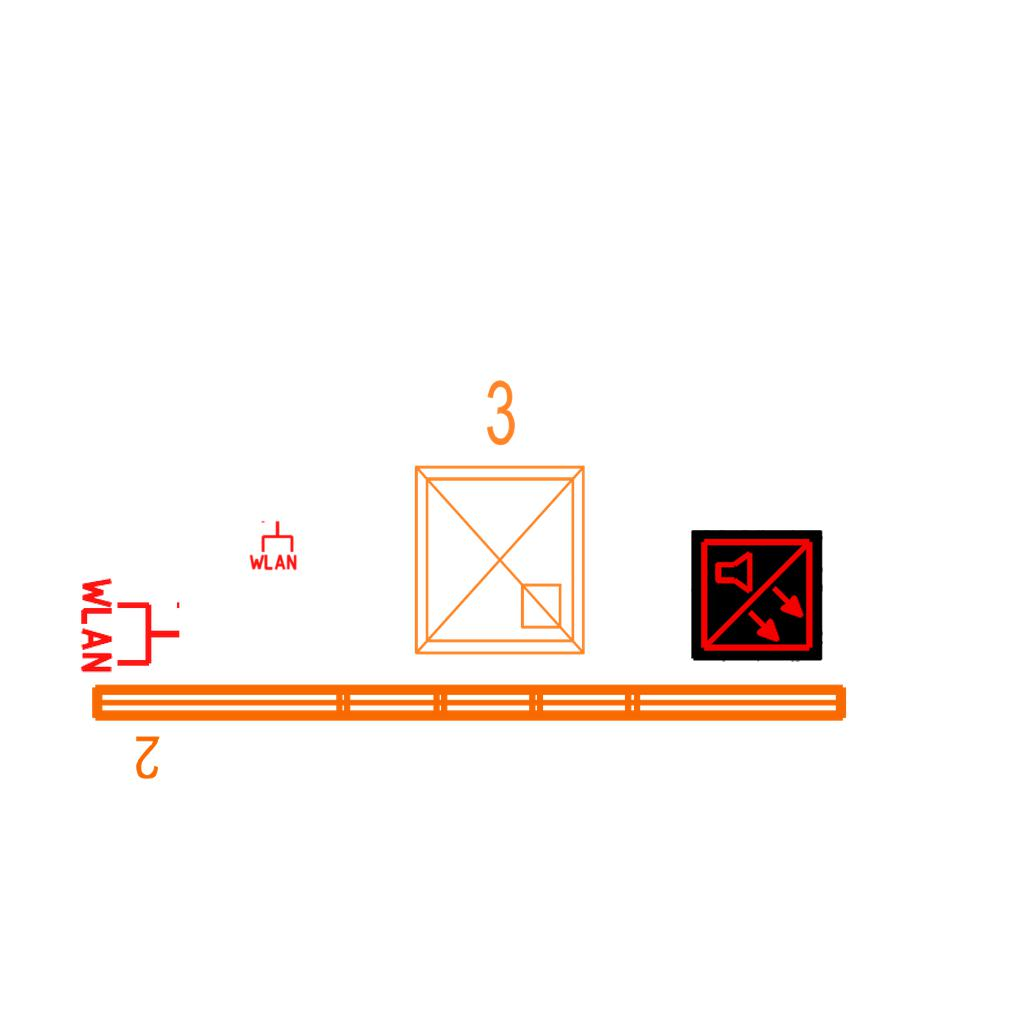Ambulanz_Pendelleuchte_LED: (83, 672, 857, 784)
Einbaudownlights_LED_Konferenzraeume: (392, 369, 600, 669)
OKW_Multisensormelder_(Kombination_optischer_Rauch-Kahlenmonoxid_Waerme-Melder): (691, 530, 823, 662)
WLAN: (79, 573, 184, 677), (247, 519, 299, 571)
